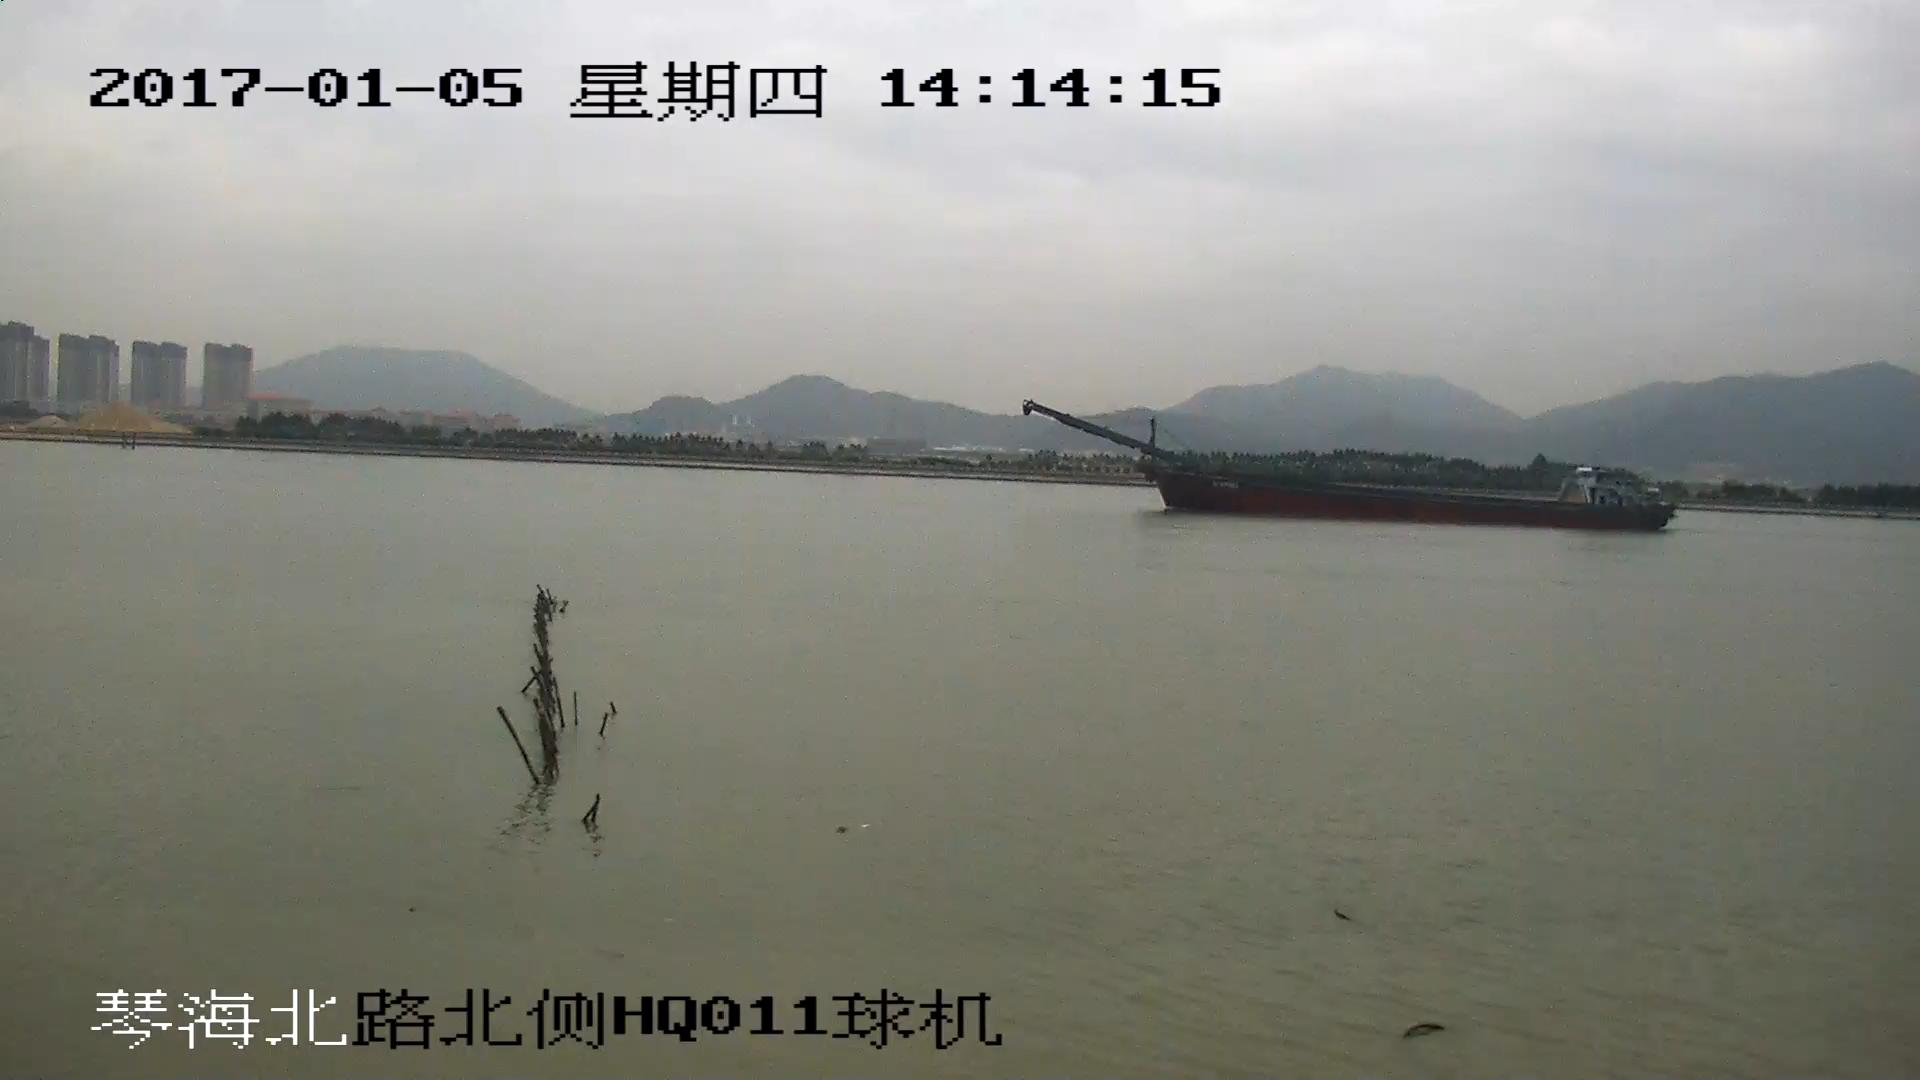bulk cargo carrier: (1029, 402, 1673, 533)
